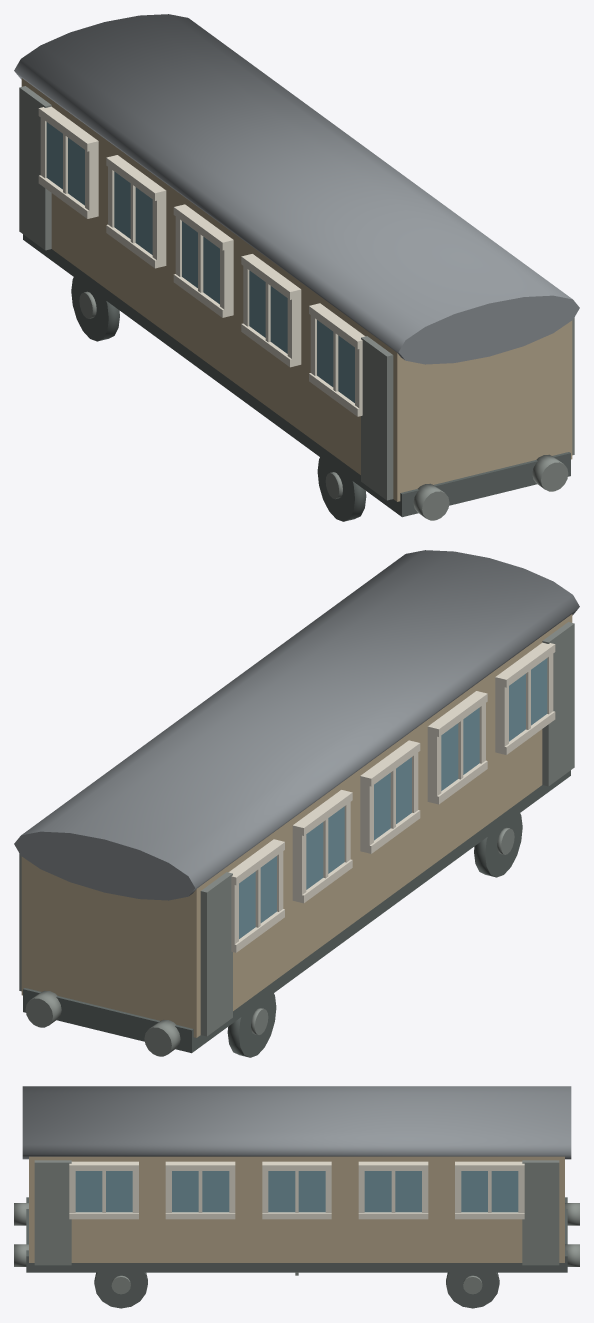
Rendered from tyne-mail_lod0.glb.
3 views of the same model, one above another, from view 1: azimuth 30°, elevation 25°; view 2: azimuth 150°, elevation 25°; view 3: azimuth 270°, elevation 25° (orthographic). The views are drawn at different scales.
Visible parts, largest first — view 1: RF_CoachRoof, RF_CoachBody, RF_Chassis, RF_RoofLowerMask, RF_CarDoor.001, RF_CarDoor.002, RF_Window.004, RF_Window.002, RF_Window.005, RF_Window.001, RF_Window.003, RF_Wheel.001 (+15 smaller); view 2: RF_CoachRoof, RF_CoachBody, RF_Chassis, RF_CarDoor.002, RF_CarDoor.001, RF_RoofLowerMask, RF_Window.002, RF_Window.004, RF_Window.001, RF_Window.005, RF_Window.003, RF_Wheel.003 (+13 smaller); view 3: RF_CoachRoof, RF_CoachBody, RF_Chassis, RF_RoofLowerMask, RF_CarDoor.003, RF_CarDoor, RF_Window.008, RF_Window.007, RF_Window.009, RF_Window.006, RF_Window, RF_Wheel.002 (+17 smaller).
Part boxes in pixels (x1=…): RF_CoachRoof: x1=14, y1=14, x2=579, y2=364; RF_CoachBody: x1=21, y1=78, x2=572, y2=501; RF_Chassis: x1=23, y1=234, x2=570, y2=517; RF_RoofLowerMask: x1=21, y1=79, x2=572, y2=435; RF_CarDoor.001: x1=361, y1=336, x2=393, y2=500; RF_CarDoor.002: x1=19, y1=86, x2=51, y2=250; RF_Window.004: x1=114, y1=171, x2=152, y2=254; RF_Window.002: x1=249, y1=270, x2=287, y2=353; RF_Window.005: x1=46, y1=122, x2=84, y2=205; RF_Window.001: x1=317, y1=320, x2=354, y2=402; RF_Window.003: x1=182, y1=221, x2=219, y2=304; RF_Wheel.001: x1=317, y1=457, x2=366, y2=521; RF_CoachRoof: x1=14, y1=550, x2=579, y2=900; RF_CoachBody: x1=21, y1=614, x2=572, y2=1037; RF_Chassis: x1=23, y1=770, x2=570, y2=1053; RF_CarDoor.002: x1=200, y1=872, x2=232, y2=1036; RF_CarDoor.001: x1=542, y1=622, x2=574, y2=786; RF_RoofLowerMask: x1=22, y1=615, x2=571, y2=972; RF_Window.002: x1=441, y1=707, x2=479, y2=790; RF_Window.004: x1=306, y1=806, x2=344, y2=889; RF_Window.001: x1=509, y1=658, x2=547, y2=741; RF_Window.005: x1=239, y1=856, x2=276, y2=938; RF_Window.003: x1=374, y1=757, x2=411, y2=840; RF_Wheel.003: x1=227, y1=993, x2=276, y2=1057; RF_CoachRoof: x1=22, y1=1086, x2=571, y2=1159; RF_CoachBody: x1=29, y1=1156, x2=564, y2=1262; RF_Chassis: x1=26, y1=1197, x2=567, y2=1272; RF_RoofLowerMask: x1=29, y1=1156, x2=564, y2=1216; RF_CarDoor.003: x1=34, y1=1160, x2=71, y2=1265; RF_CarDoor: x1=522, y1=1160, x2=559, y2=1265; RF_Window.008: x1=268, y1=1171, x2=325, y2=1212; RF_Window.007: x1=172, y1=1171, x2=229, y2=1212; RF_Window.009: x1=364, y1=1171, x2=421, y2=1212; RF_Window.006: x1=75, y1=1171, x2=132, y2=1212; RF_Window: x1=461, y1=1171, x2=518, y2=1212; RF_Wheel.002: x1=94, y1=1272, x2=147, y2=1308.
Bounding box in the file's own units: 3.16 × 3.76 × 10.98.
